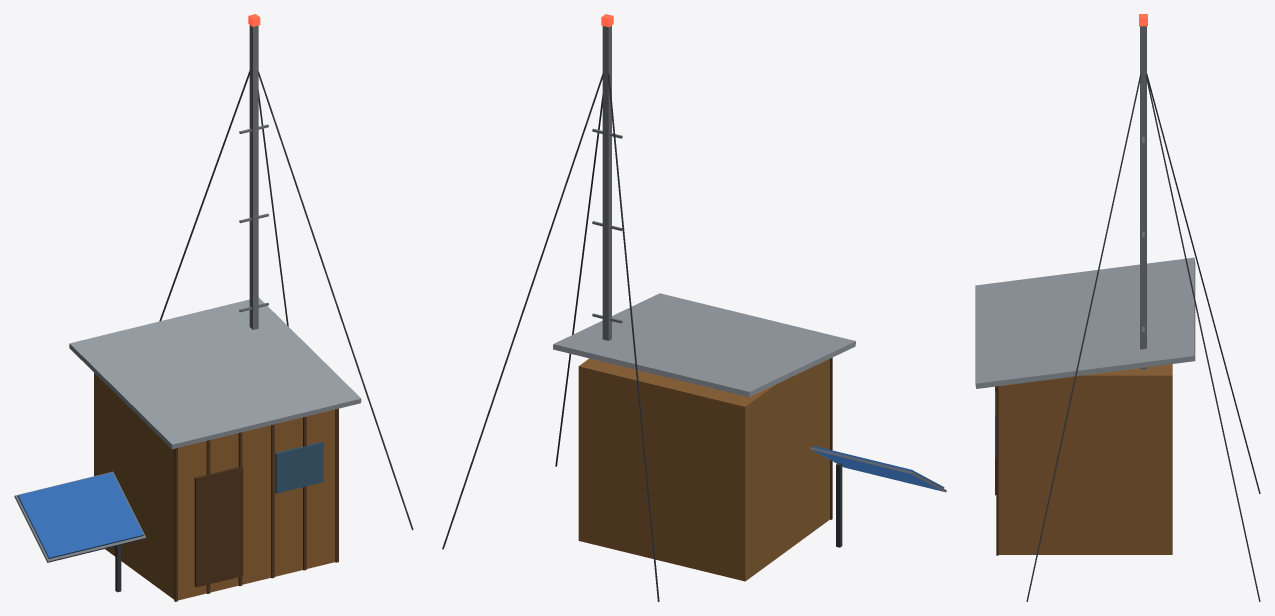
Rendered from Caseta de radio.fbx.
3 renders of one model, left to right at view 1: azimuth 30°, elevation 25°; view 2: azimuth 150°, elevation 25°; view 3: azimuth 270°, elevation 25°, orthographic. The views are drawn at different scales.
Visible parts, largest first — view 1: Caseta de radio; view 2: Caseta de radio; view 3: Caseta de radio.
Part boxes in pixels (box(x1,y1,x2,y2)): Caseta de radio: box(14, 14, 413, 601); Caseta de radio: box(442, 14, 946, 601); Caseta de radio: box(975, 14, 1260, 601).
Bounding box in the file's own units: 3.93 × 5.04 × 2.45.
